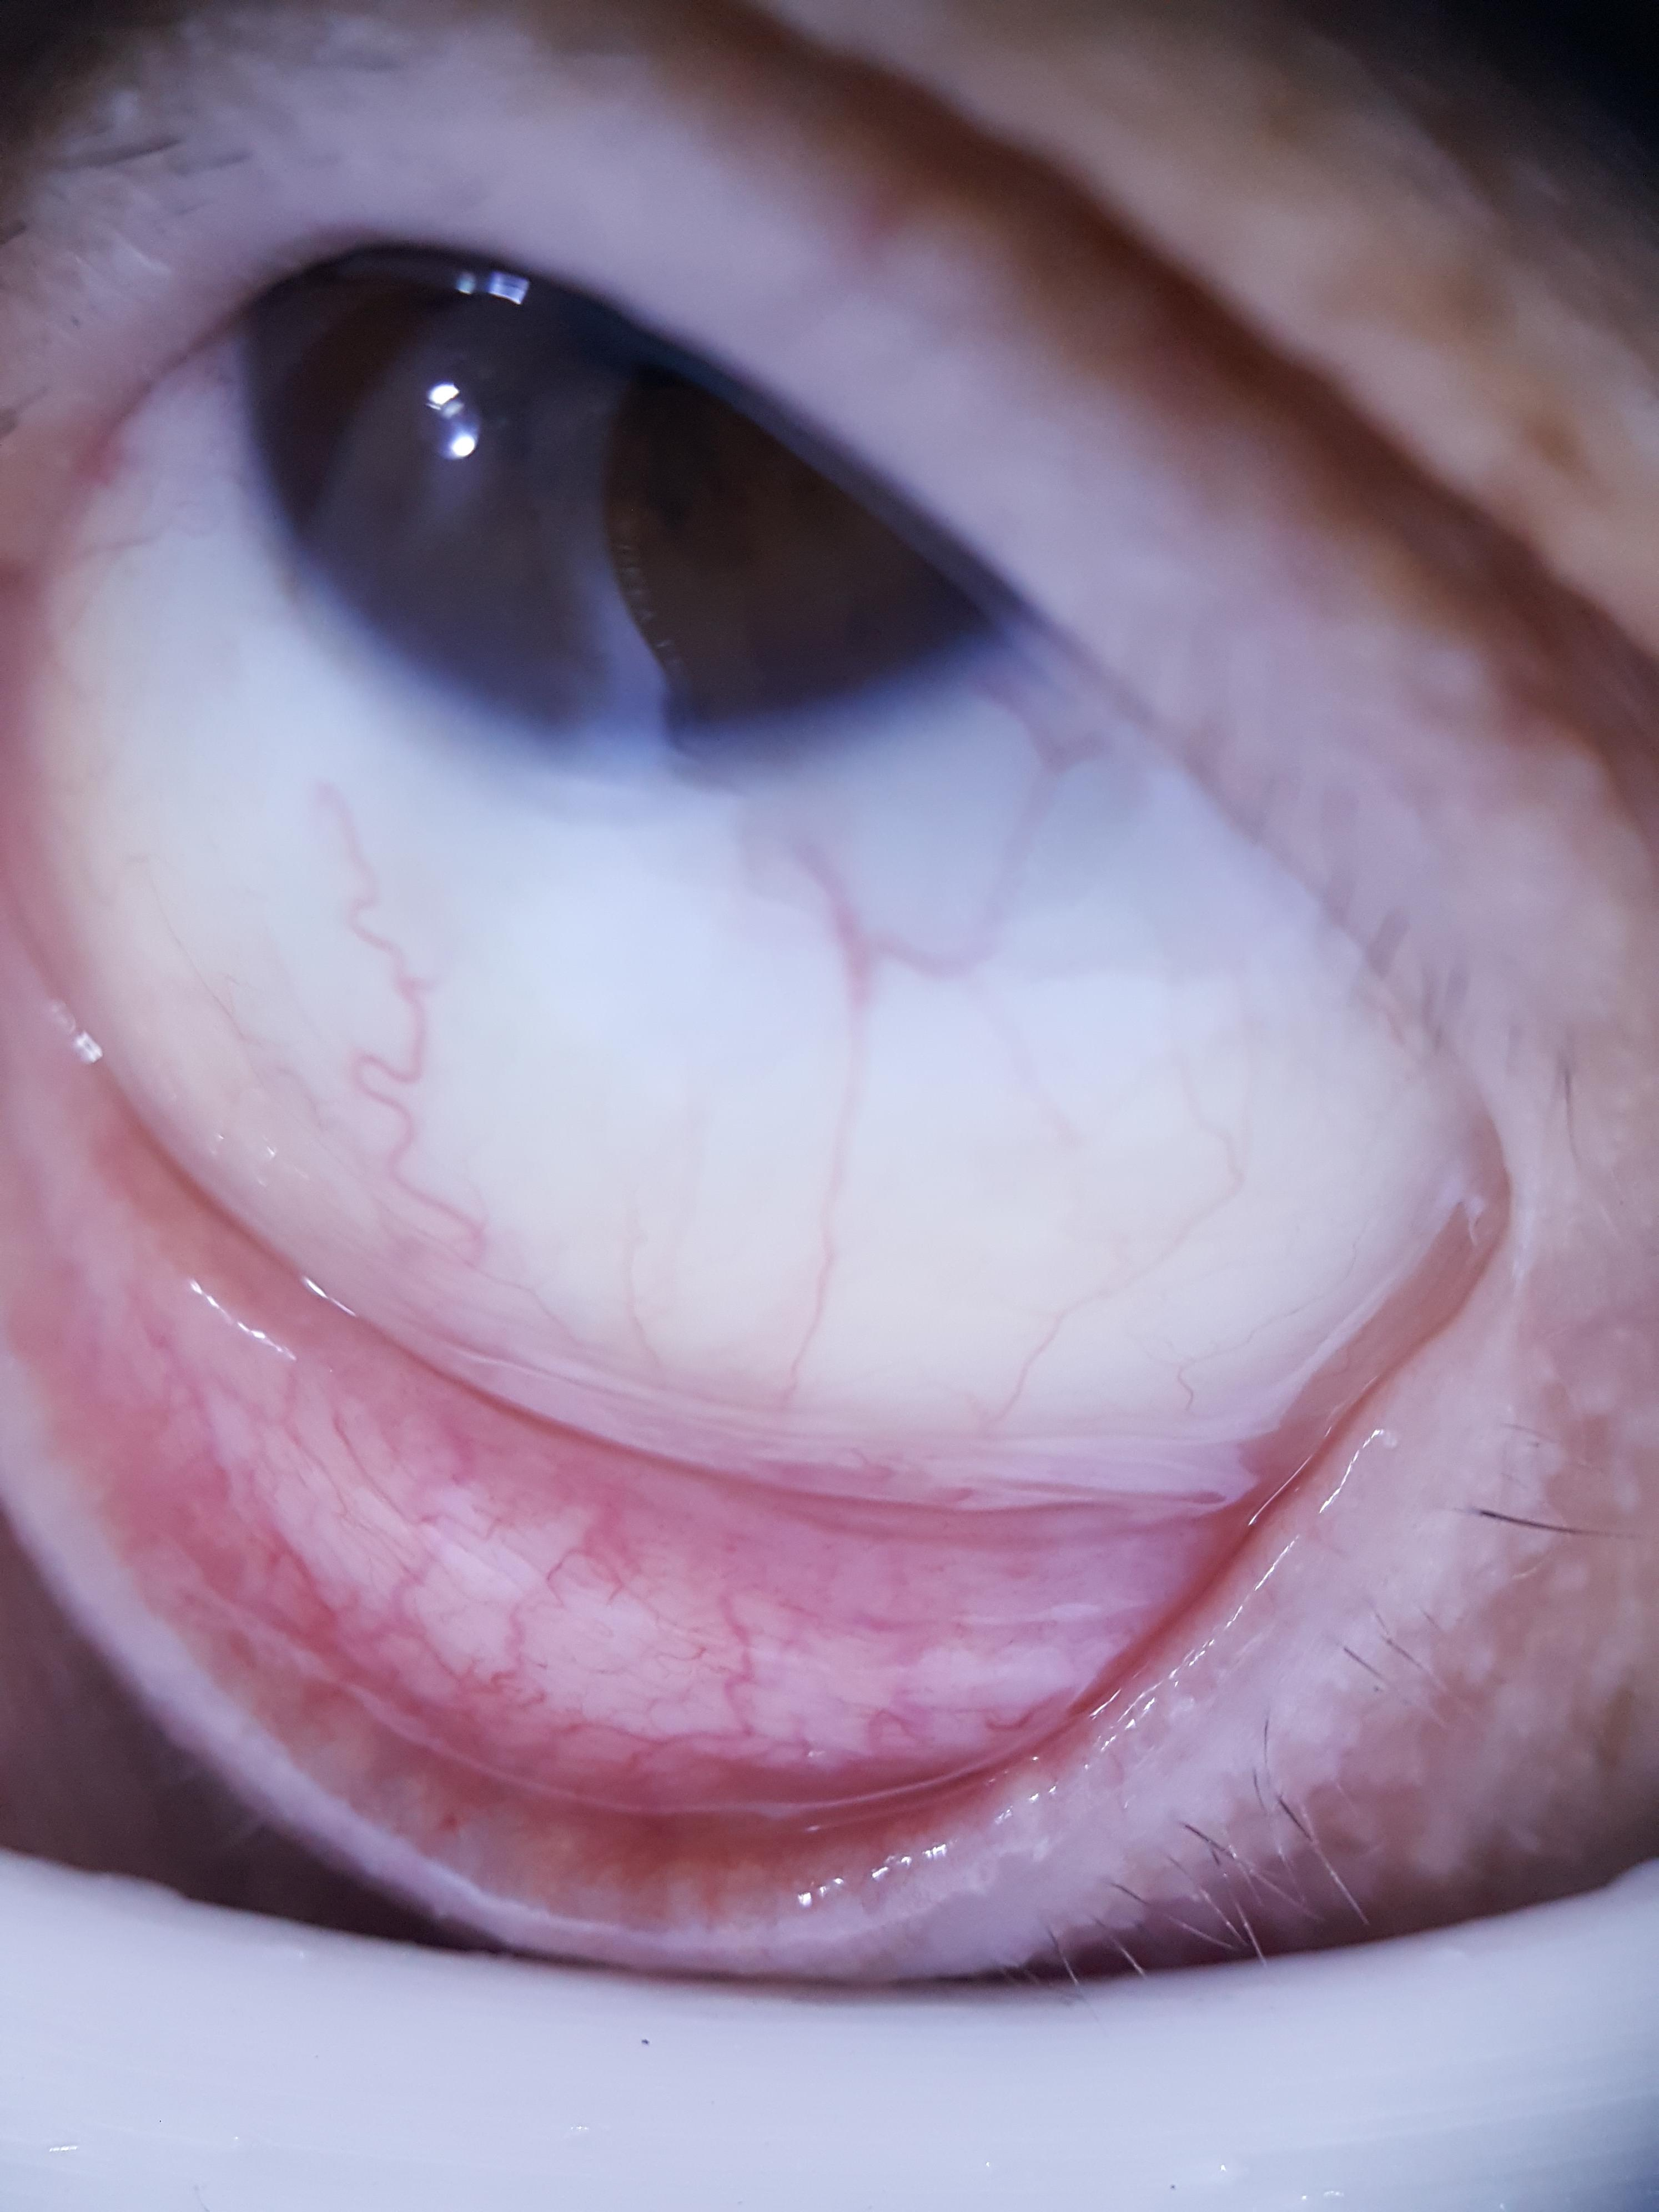forniceal: (10, 944, 1255, 1799)
forniceal_palpebral: (0, 923, 1267, 1930)
palpebral: (5, 1231, 1265, 1930)
